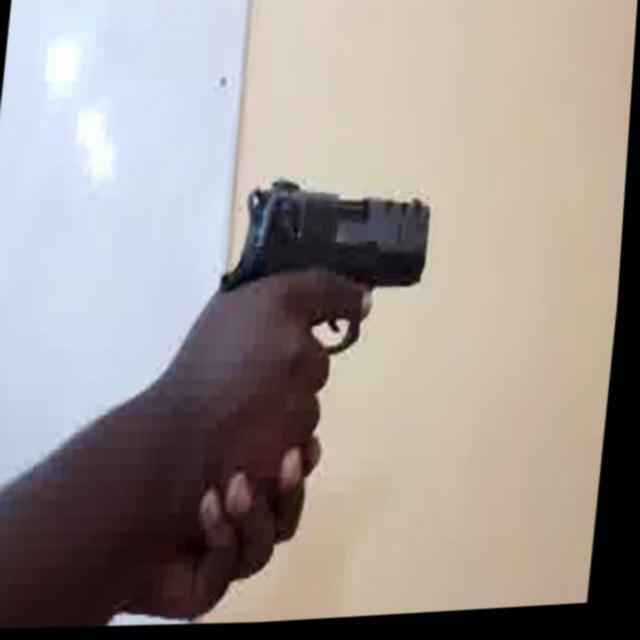weapon: (214, 169, 439, 376)
